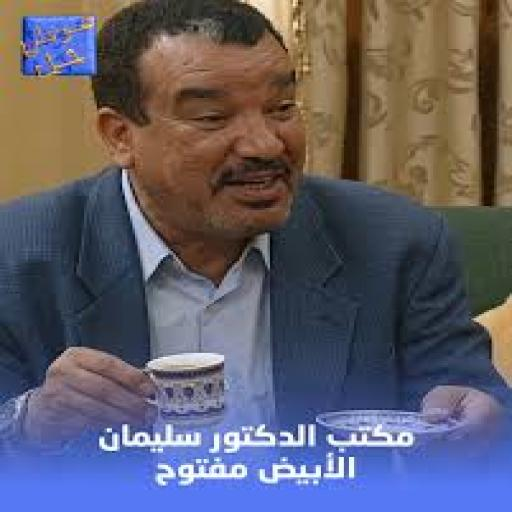slimane: (92, 0, 303, 249)
